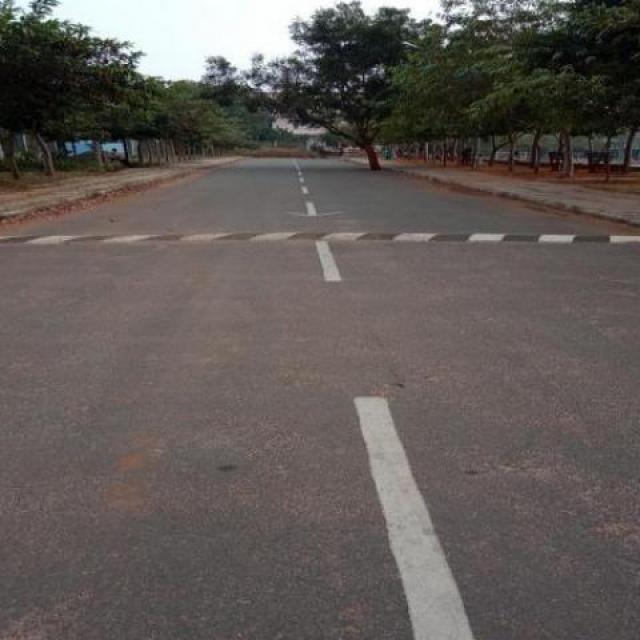Speed Bump: (0, 228, 639, 246)
